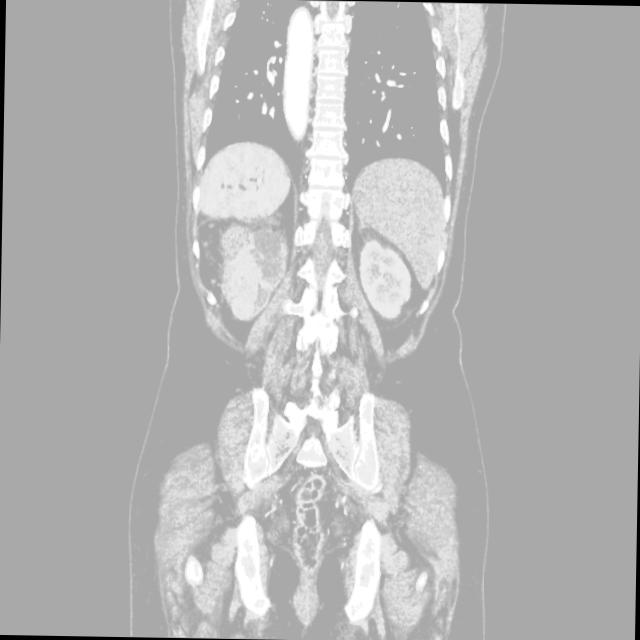TUMOR: (169, 114, 502, 358)
